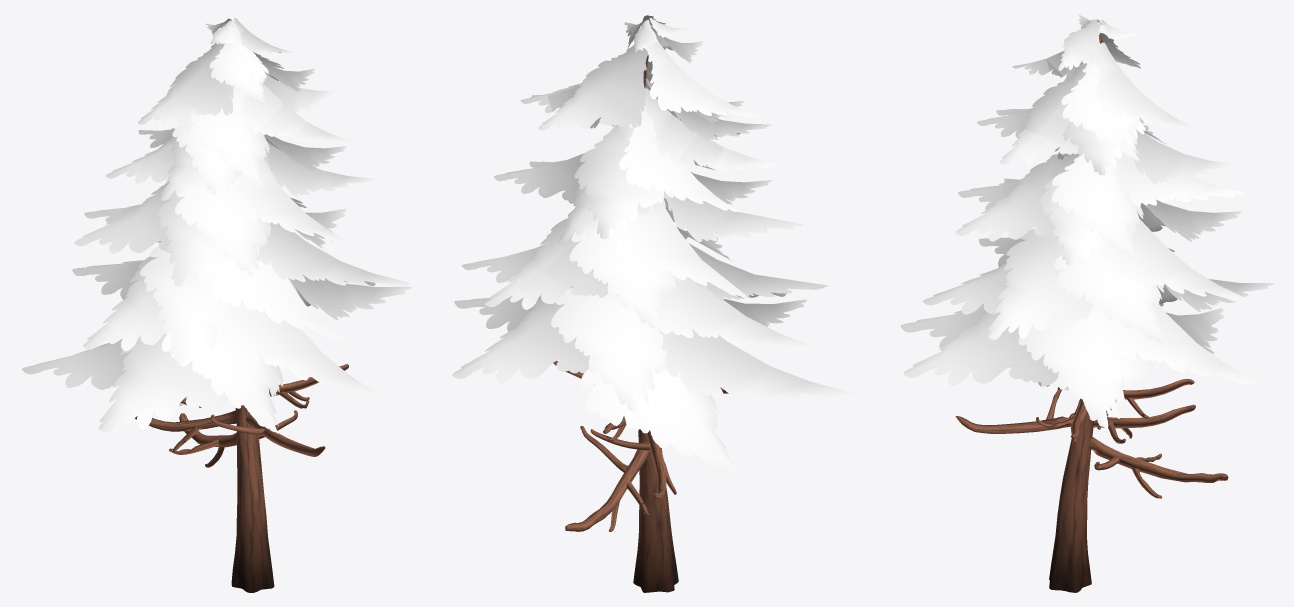
The model's file is Pine_1.glb.
3 renders of one model, left to right at view 1: azimuth 30°, elevation 25°; view 2: azimuth 150°, elevation 25°; view 3: azimuth 270°, elevation 25°, orthographic. The views are drawn at different scales.
Parts seen in each view (by area): view 1: Pine_1; view 2: Pine_1; view 3: Pine_1.
Part boxes in pixels (x1,y1,x2,y2): Pine_1: (22, 18, 411, 592); Pine_1: (452, 15, 856, 592); Pine_1: (900, 14, 1273, 592).
Bounding box in the file's own units: 4.94 × 7.32 × 4.54.
2 materials, 2 textured.
